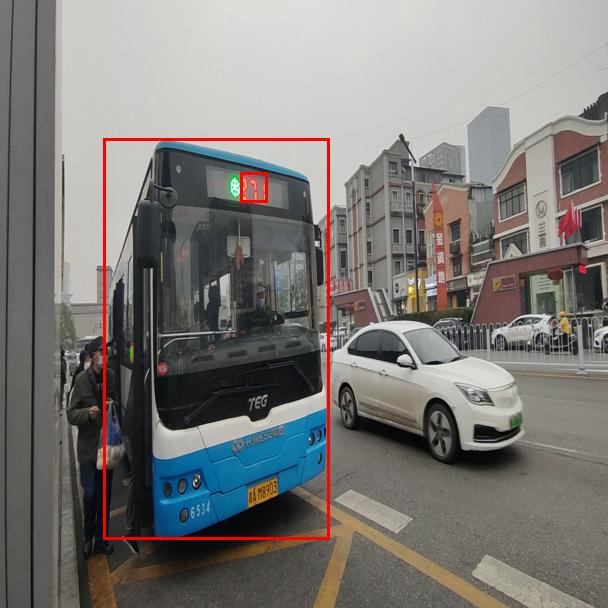bus: (103, 138, 329, 539)
screen: (240, 172, 267, 202)
